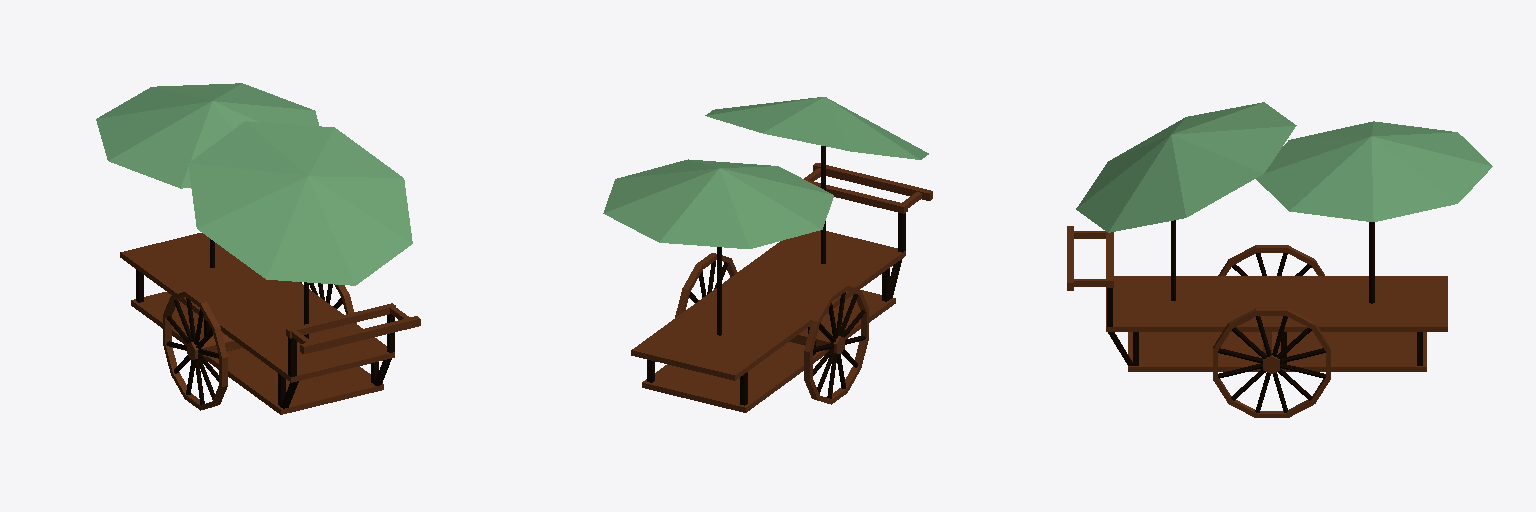
The model's file is Wagon_C.obj.
3 views of the same model, side by side, from view 1: azimuth 30°, elevation 25°; view 2: azimuth 150°, elevation 25°; view 3: azimuth 270°, elevation 25° (orthographic).
Parts seen in each view (by area): view 1: Wagon_C; view 2: Wagon_C; view 3: Wagon_C.
Part boxes in pixels (bbox=[...]): Wagon_C: bbox=[96, 83, 420, 414]; Wagon_C: bbox=[603, 97, 932, 412]; Wagon_C: bbox=[1067, 102, 1492, 417].
Size of the model in its own units: 12.56 by 14.63 by 21.87.